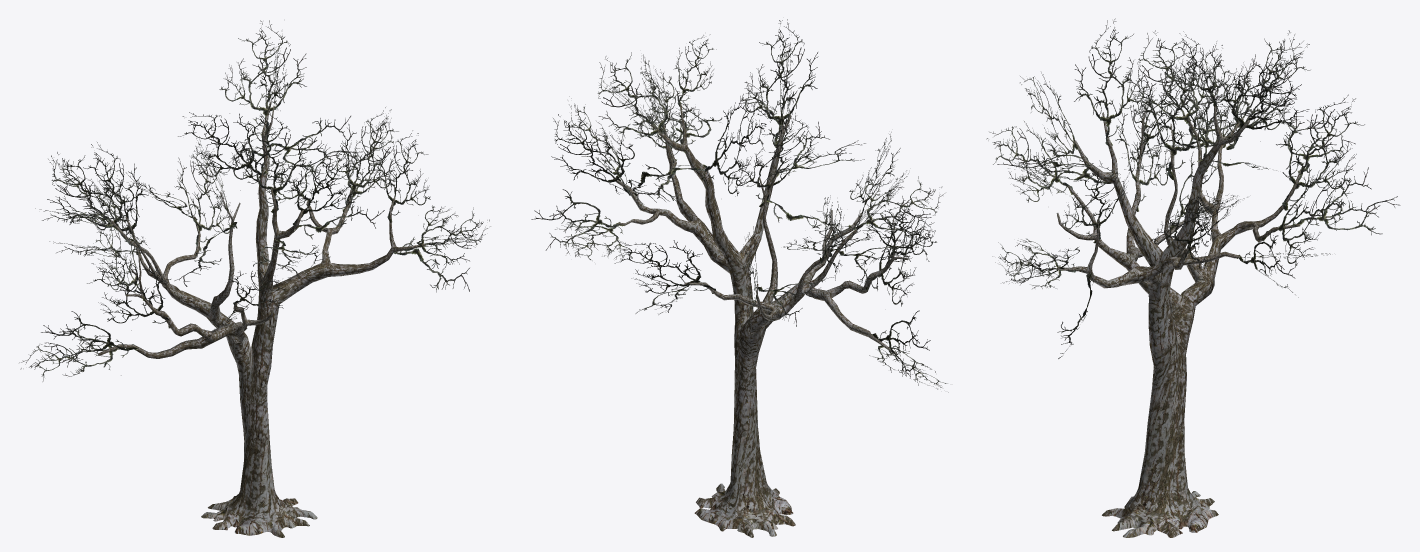
File: arvore_inverno.glb
3 renders of one model, left to right at view 1: azimuth 30°, elevation 25°; view 2: azimuth 150°, elevation 25°; view 3: azimuth 270°, elevation 25°, orthographic. The views are drawn at different scales.
Parts seen in each view (by area): view 1: models\foliage\tree_maple_winter_01.vmdl_c.tree_maple_winter; view 2: models\foliage\tree_maple_winter_01.vmdl_c.tree_maple_winter; view 3: models\foliage\tree_maple_winter_01.vmdl_c.tree_maple_winter.
Part boxes in pixels (x1,y1,x2,y2): models\foliage\tree_maple_winter_01.vmdl_c.tree_maple_winter: [19, 20, 490, 537]; models\foliage\tree_maple_winter_01.vmdl_c.tree_maple_winter: [531, 19, 948, 537]; models\foliage\tree_maple_winter_01.vmdl_c.tree_maple_winter: [986, 18, 1400, 537].
Size of the model in its own units: 9.88 by 10.81 by 8.19.
Materials: 2 (2 with a texture image).
